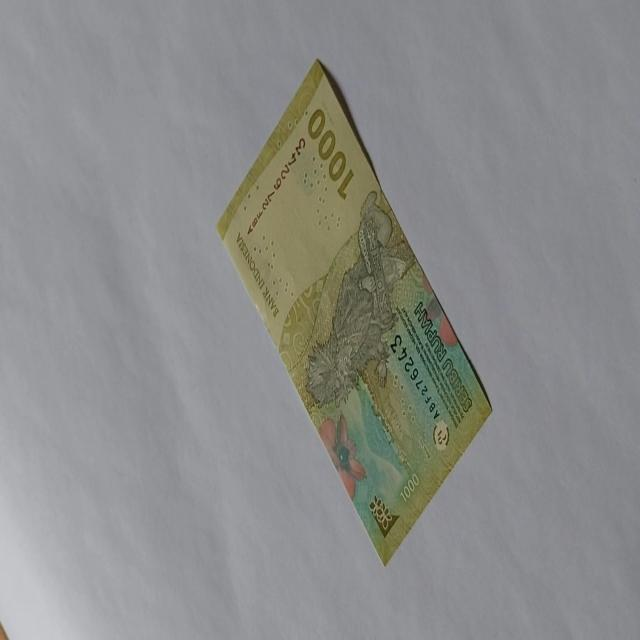seribu rupiah kertas: (215, 58, 493, 566)
